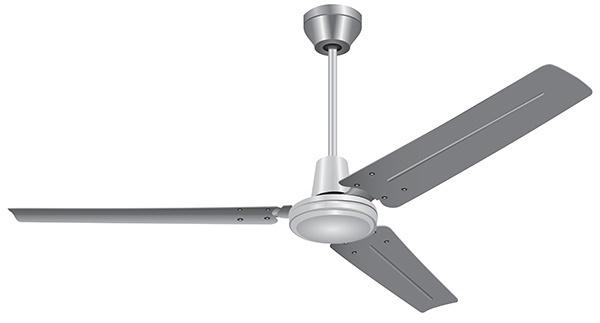fan: (9, 0, 592, 312)
